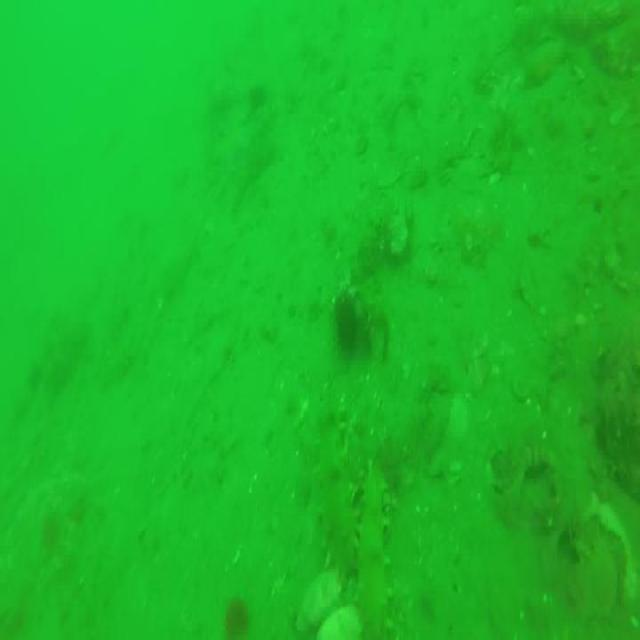echinus: (335, 294, 357, 360), (220, 600, 250, 640)
holothurian: (310, 412, 356, 584), (357, 464, 394, 640)
scallop: (294, 569, 343, 635), (317, 607, 361, 640)
